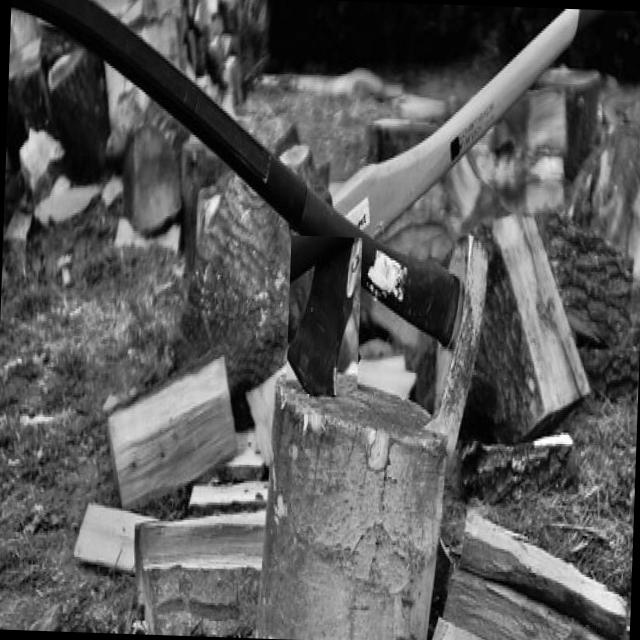Axe: (11, 0, 487, 452), (333, 8, 577, 235), (288, 238, 362, 394)
